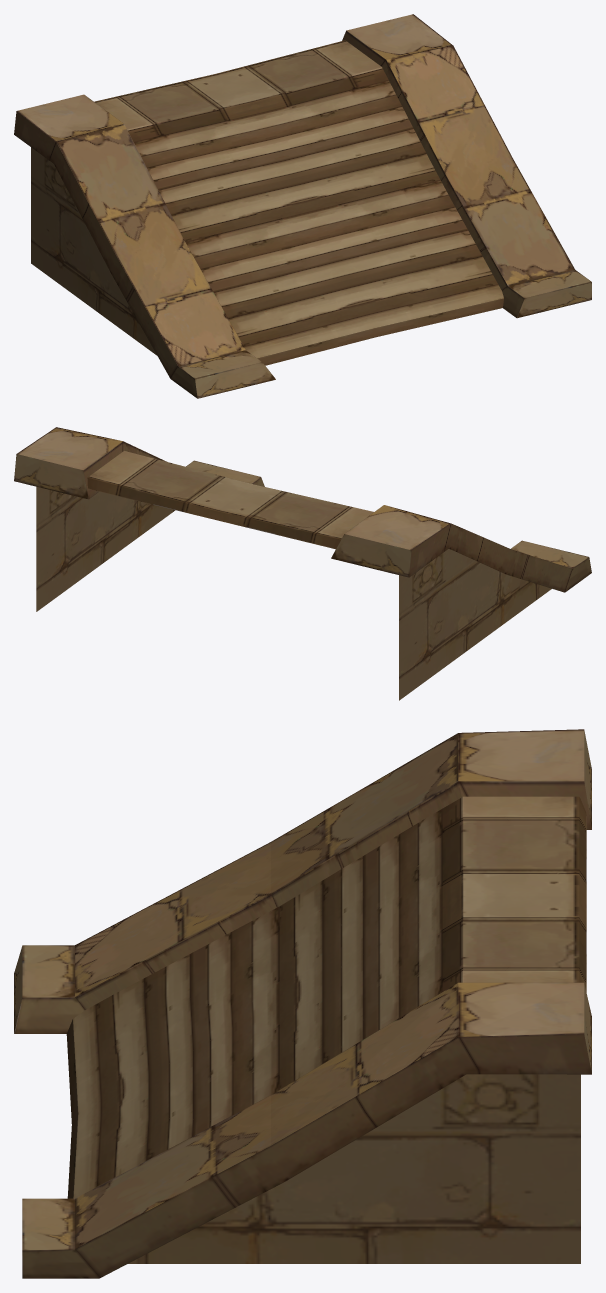
The model's file is 2_SM_TaiJie_01.FBX.
The picture shows the model from 3 angles, top to bottom: view 1: azimuth 30°, elevation 25°; view 2: azimuth 150°, elevation 25°; view 3: azimuth 270°, elevation 25°; orthographic projection. The views are drawn at different scales.
Parts seen in each view (by area): view 1: 2_SM_TaiJie_02; view 2: 2_SM_TaiJie_02; view 3: 2_SM_TaiJie_02.
Part boxes in pixels (x1=…): 2_SM_TaiJie_02: x1=14, y1=14, x2=591, y2=398; 2_SM_TaiJie_02: x1=14, y1=427, x2=591, y2=700; 2_SM_TaiJie_02: x1=14, y1=729, x2=591, y2=1278.
Size of the model in its own units: 874 by 327 by 700.
